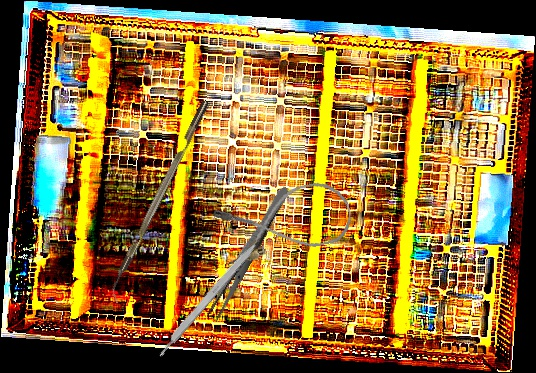Cannula: (211, 176, 357, 268)
Chopper: (103, 99, 219, 305)
Dressing Forceps: (204, 183, 292, 324)
Scalpel Handle: (153, 236, 262, 360)
